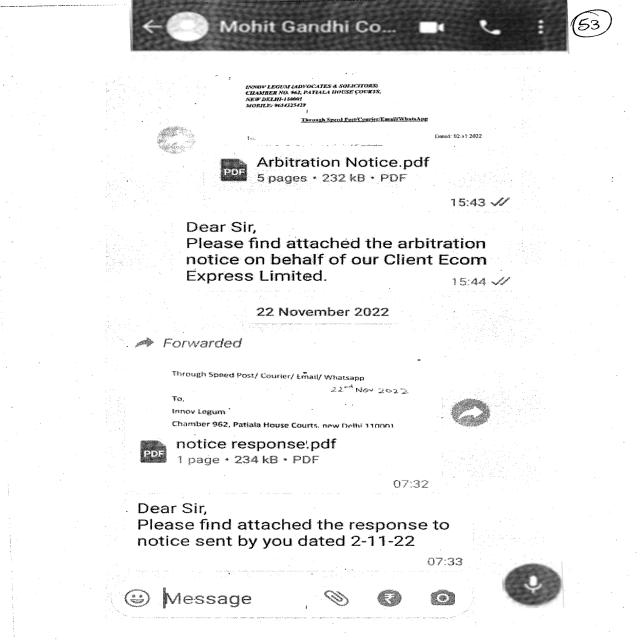page-number: (566, 0, 638, 61)
